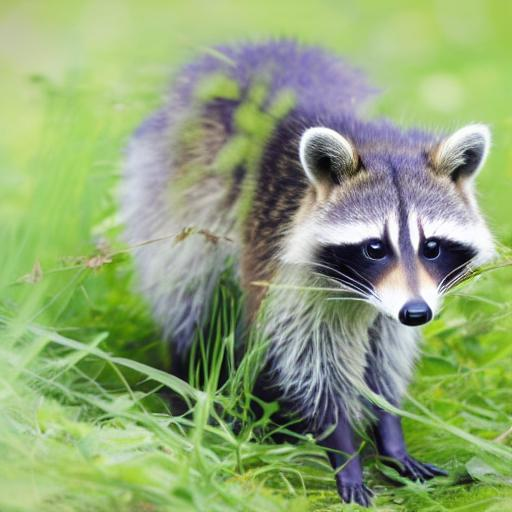raccoon: (72, 28, 512, 468)
